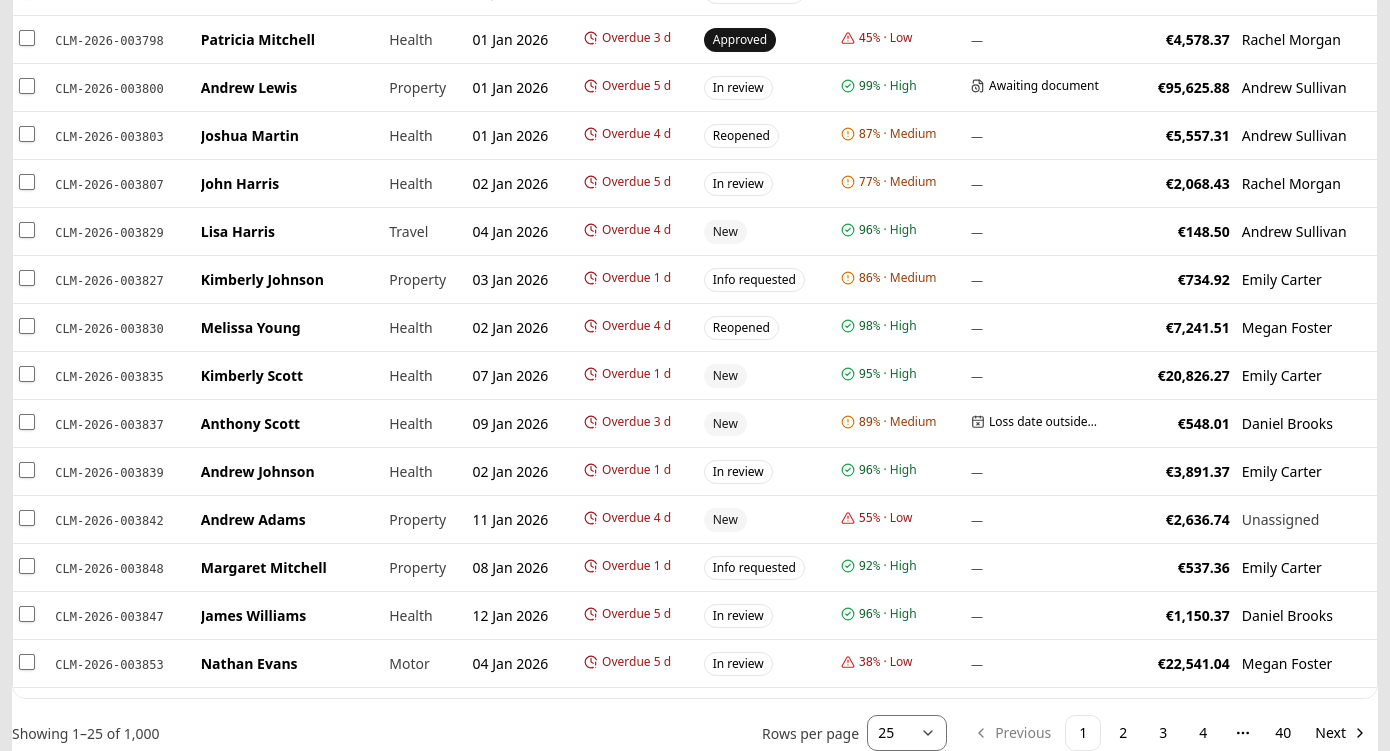
ClaimsTable › pagination › rows per page offers 25, 50 and 100
(page scrolled)
Click the dropdown named "Rows per page" at (907, 733), box [867,715,947,750]
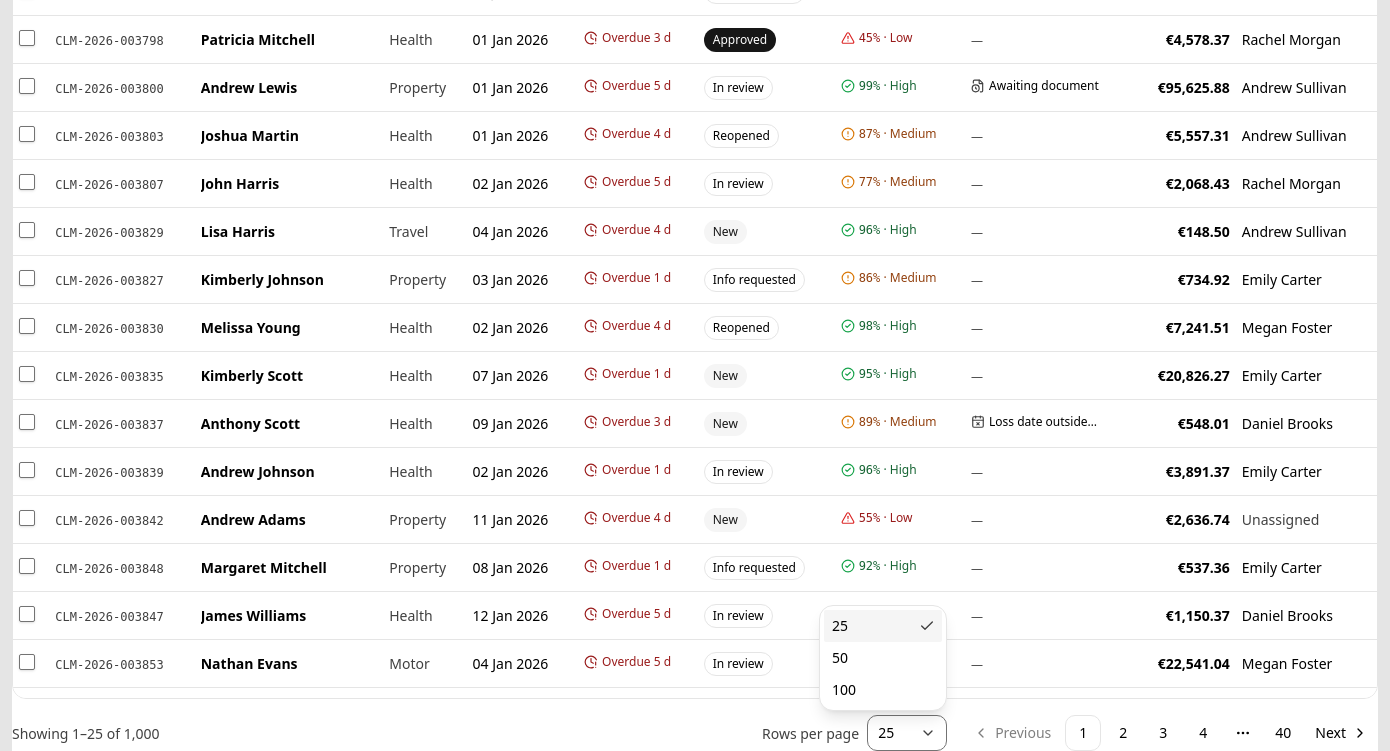
Now the option "25" is shown, box [824,610,942,642]
Now the option "50" is shown
Now the option "100" is shown, box [832,680,856,699]
Click the option "50" at (840, 658), box [832,648,848,667]
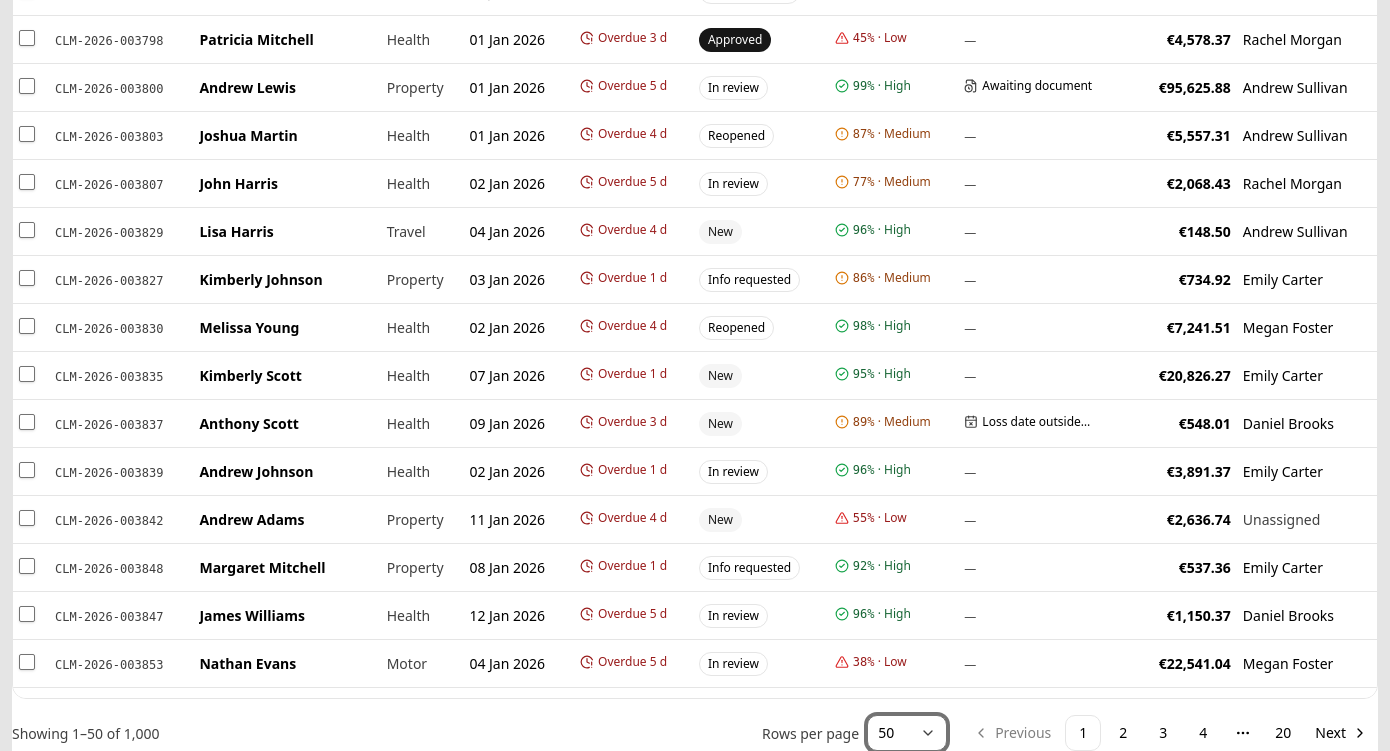
Now the text "Showing 1–50 of 1,000" is shown, box [12,722,160,744]
Click the dropdown named "Rows per page" at (907, 733), box [867,715,947,750]
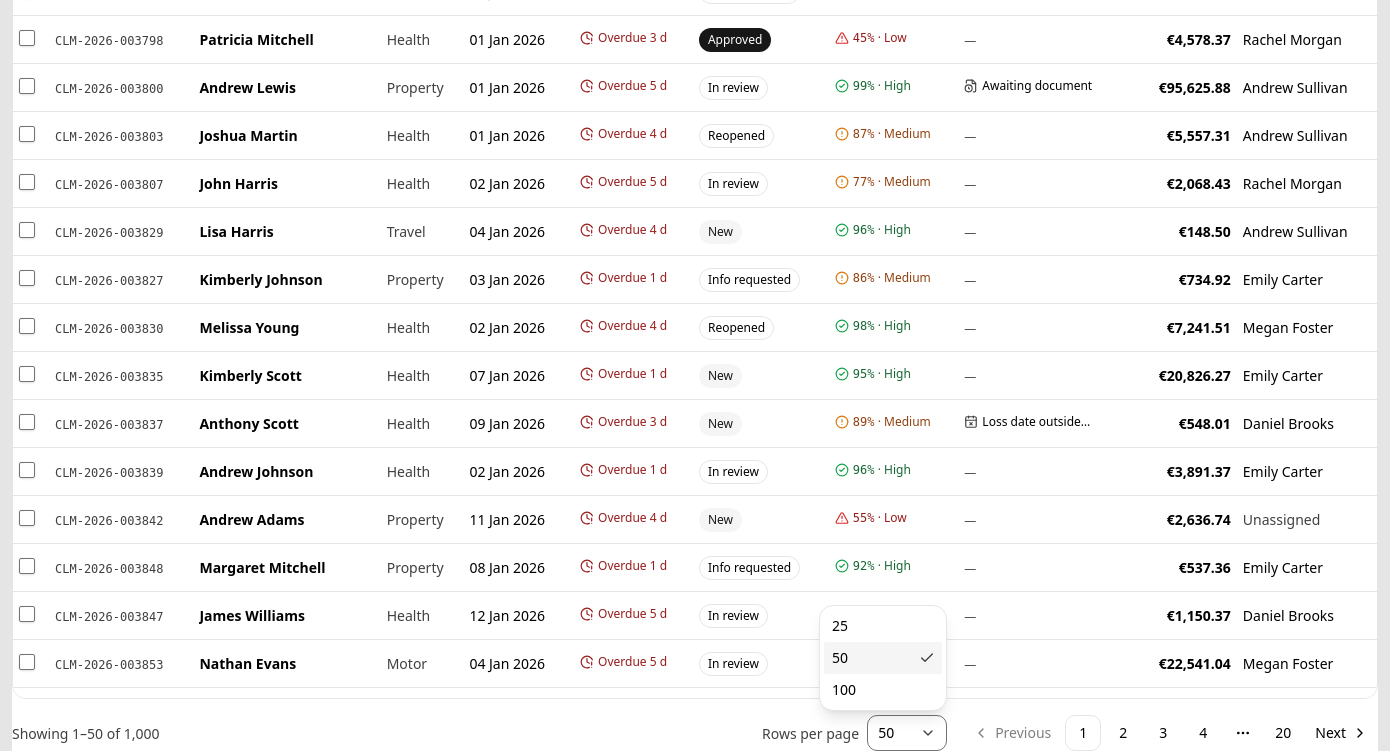
Click the option "100" at (844, 690), box [832,680,856,699]
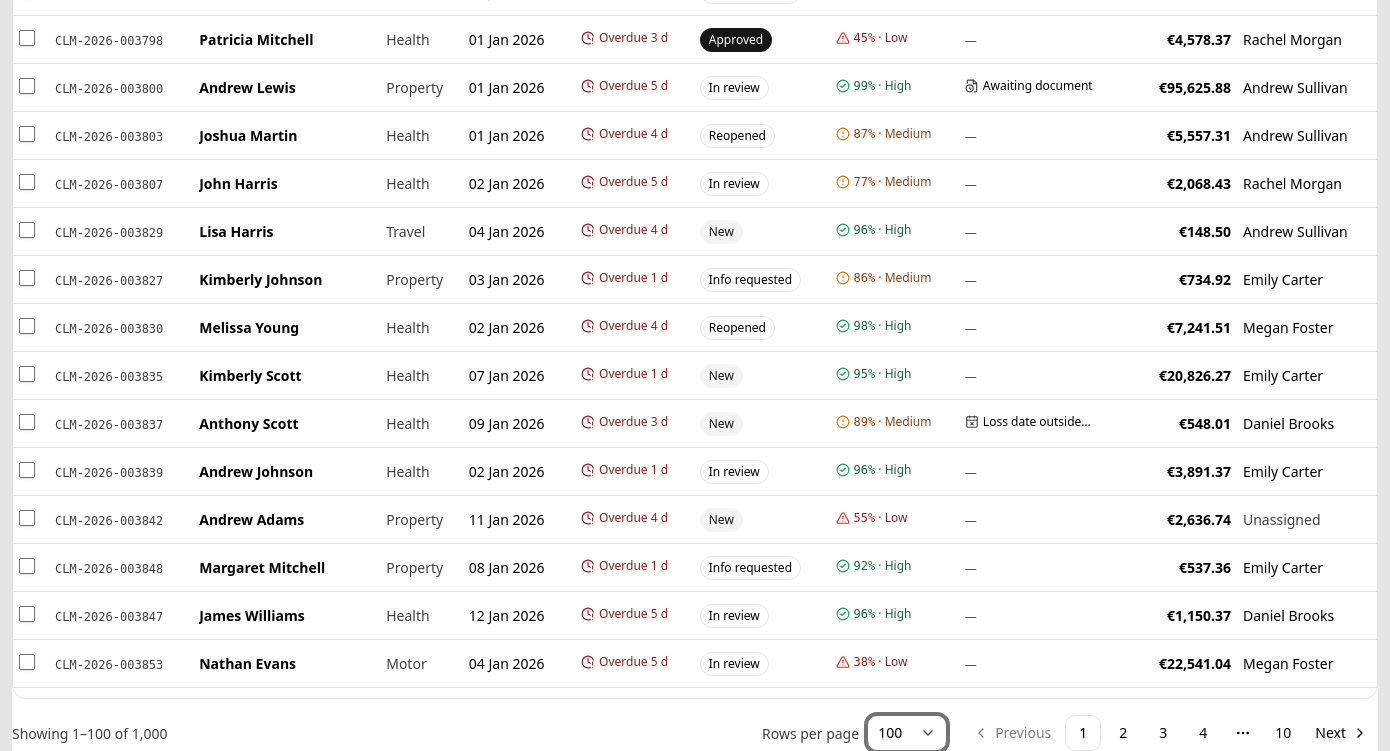
Now the text "Showing 1–100 of 1,000" is shown, box [12,722,168,744]
